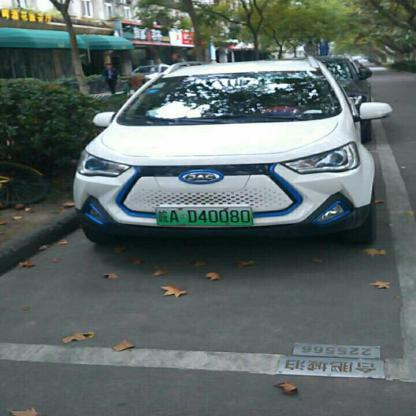lp: (155, 206, 254, 226)
